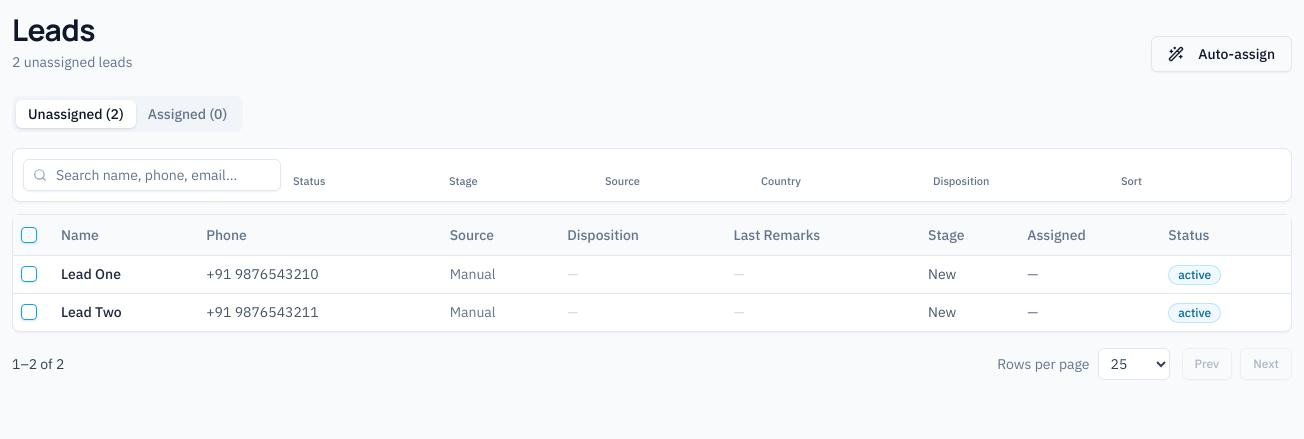
Leads role visibility › selects and deselects all leads on the current page via header checkbox
This screenshot has width=1304, height=439.
Expected: the checkbox with test id "lead-check-lead-1" is shown, [21,266,37,282]
Expected: the checkbox with test id "lead-check-lead-2" is shown, [21,304,37,320]
Click the checkbox with test id "leads-select-all": click(29, 235) [21,227,37,243]
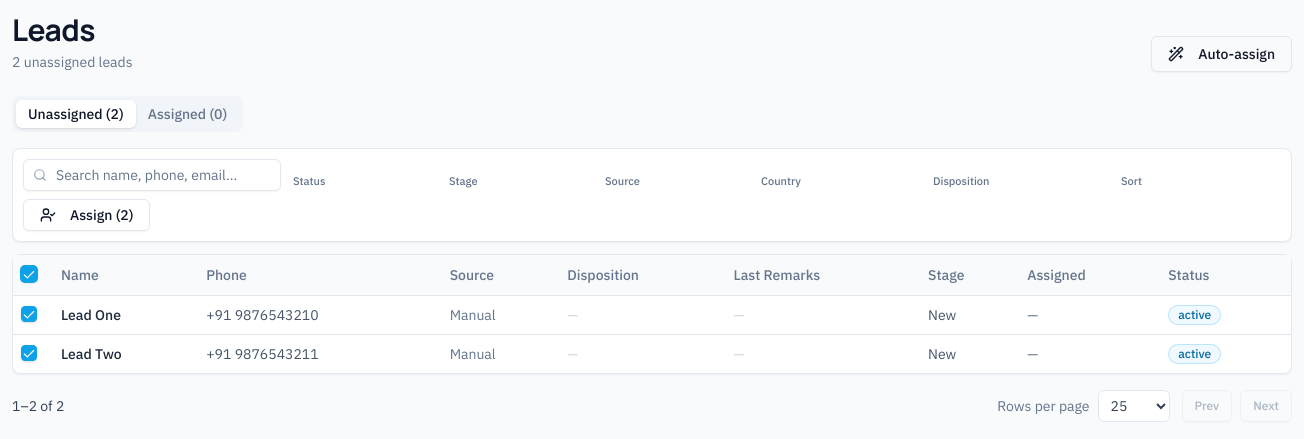
Expected: the button with test id "assign-selected-btn" reads "Assign (2)", [23,199,150,231]
Click the checkbox with test id "leads-select-all": click(29, 274) [21,266,37,282]
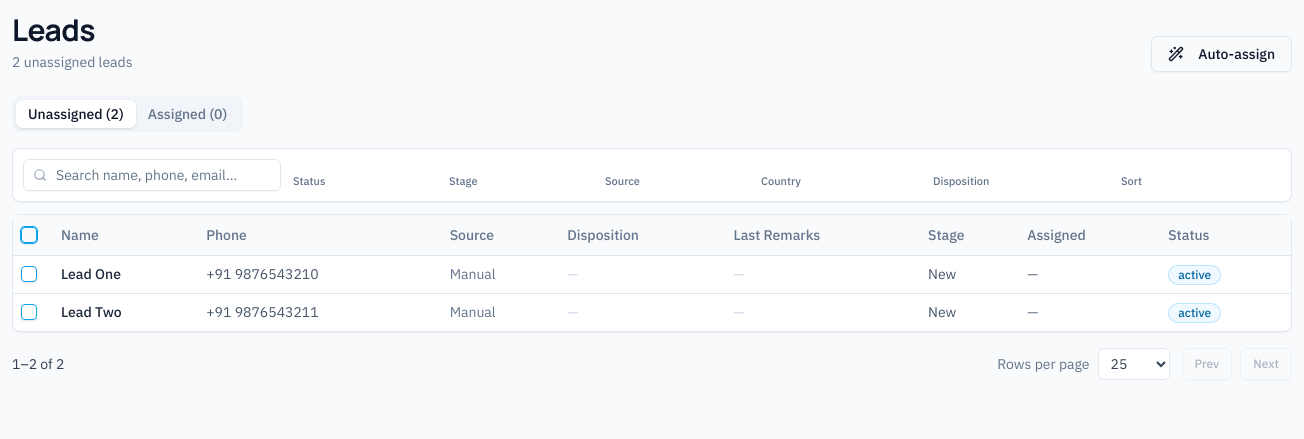
Expected: the button with test id "assign-selected-btn" is gone
